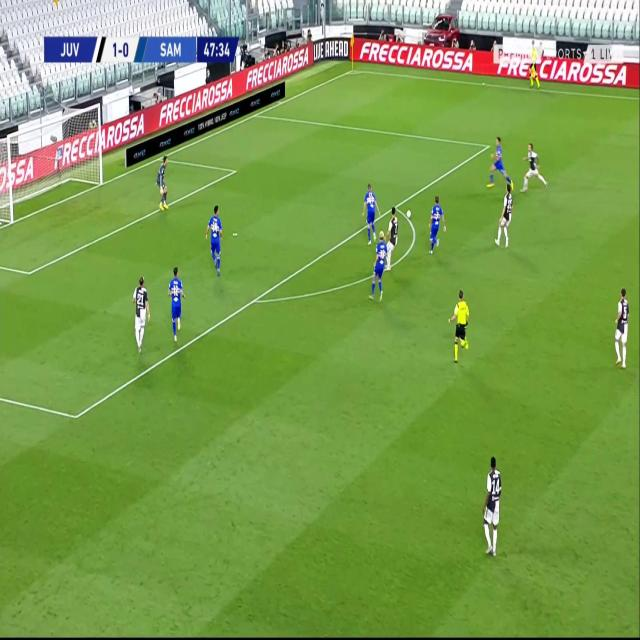ball: (405, 208, 412, 220)
player: (481, 452, 505, 558), (448, 288, 471, 364), (612, 284, 631, 371), (131, 274, 151, 352), (487, 135, 513, 192), (167, 265, 186, 342), (521, 140, 547, 194), (206, 205, 224, 277), (369, 232, 386, 304), (495, 186, 513, 251), (428, 194, 447, 255), (362, 182, 379, 246), (156, 155, 170, 215), (386, 208, 400, 268), (528, 40, 540, 89)
